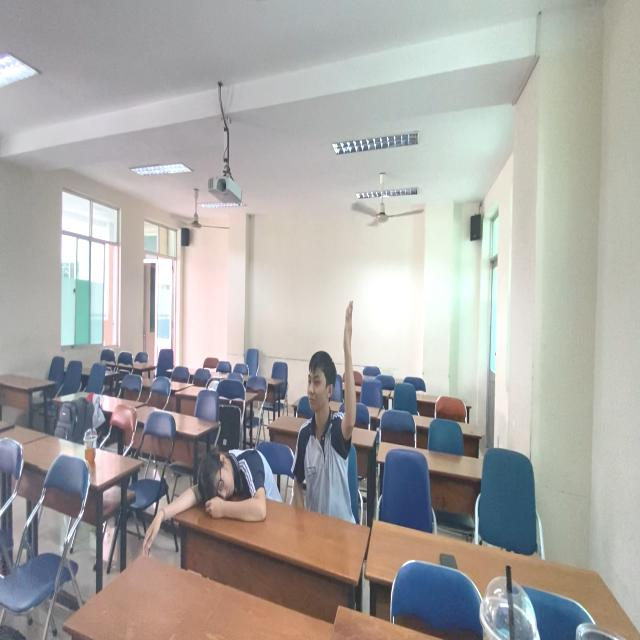raise_hand: (301, 297, 359, 492)
sleep: (178, 437, 285, 527)
